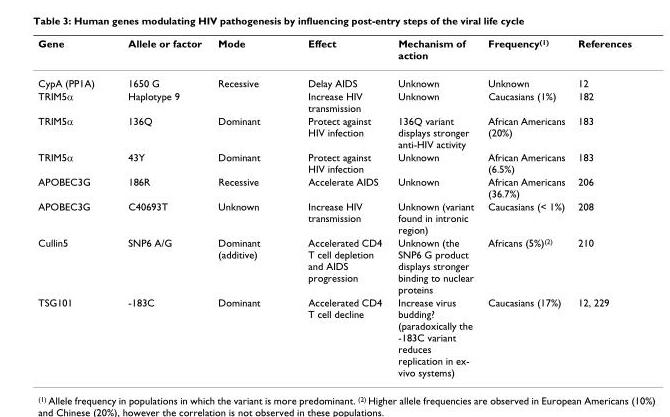table: (37, 36, 630, 377)
table column: (283, 36, 389, 377), (110, 36, 209, 377), (389, 36, 480, 377), (480, 36, 570, 377), (209, 36, 283, 377), (37, 36, 110, 377), (570, 36, 630, 377)
table column header: (37, 36, 630, 68)
table row: (37, 295, 630, 377), (37, 235, 630, 295), (37, 113, 630, 149), (37, 199, 630, 235), (37, 36, 630, 68), (37, 88, 630, 113), (37, 149, 630, 174), (37, 174, 630, 199), (37, 68, 630, 88)
